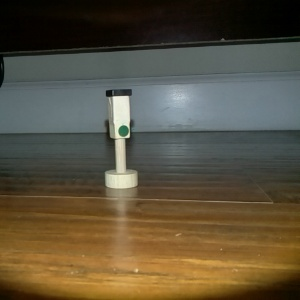traffic light green: (102, 87, 139, 190)
